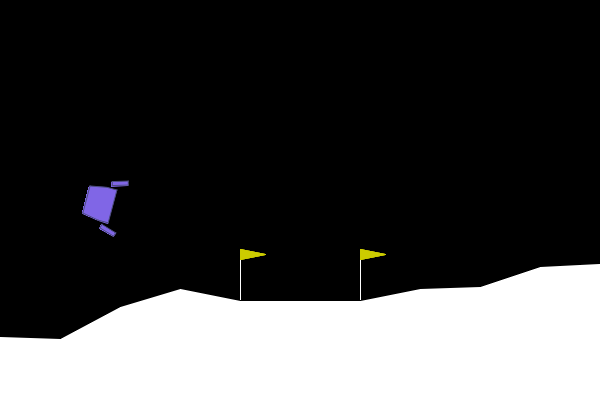lander: (76, 170, 130, 239)
